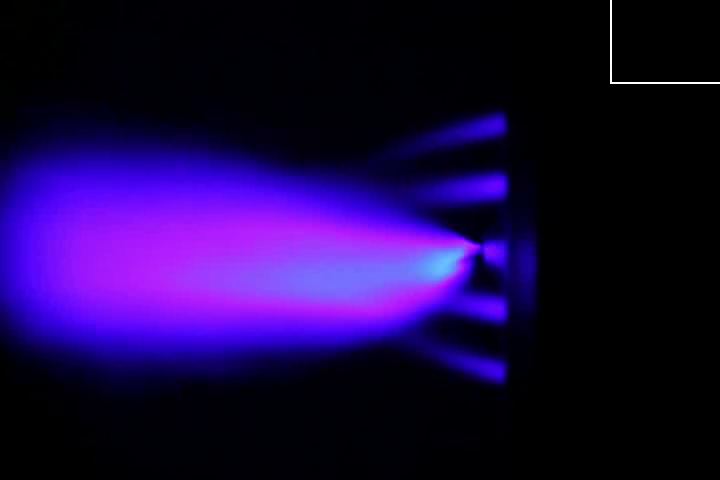burner cap: (480, 240, 511, 272)
pilot flame: (412, 338, 507, 386), (404, 113, 512, 150), (409, 171, 509, 204), (441, 291, 510, 322)
stable: (113, 202, 483, 314)
